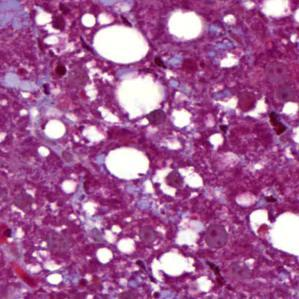steatosis: (94, 24, 150, 66), (103, 148, 155, 180)
